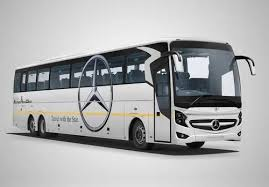bus: (12, 39, 256, 153)
